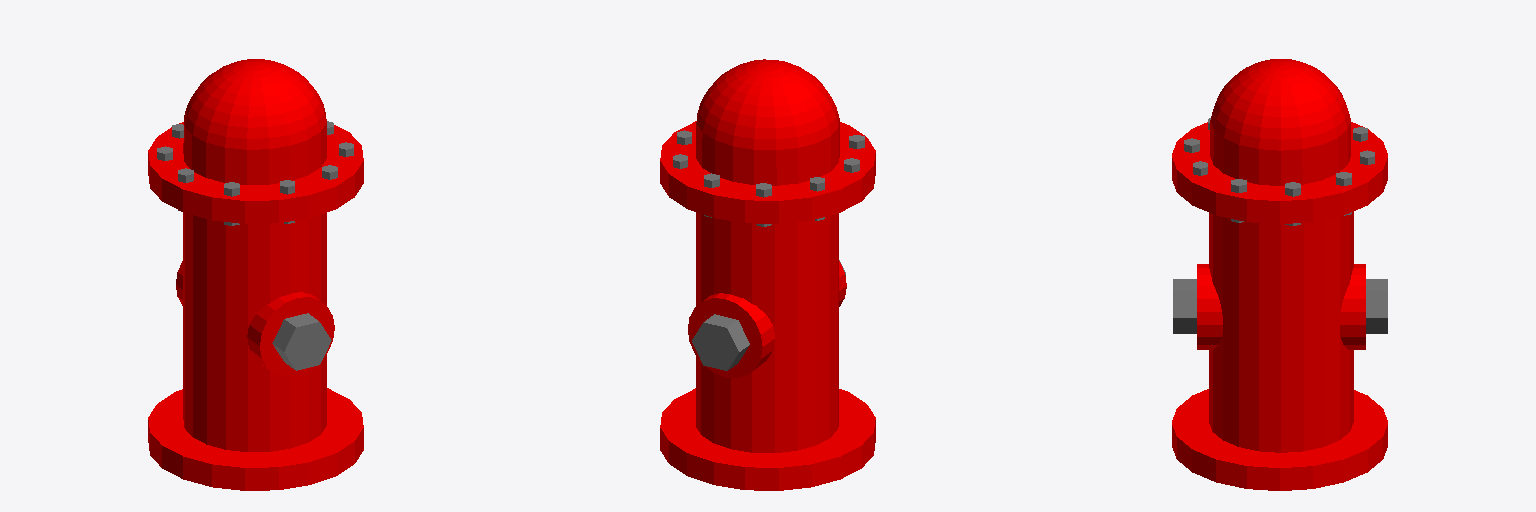
The model's file is hydrant.obj.
The picture shows the model from 3 angles: view 1: azimuth 30°, elevation 25°; view 2: azimuth 150°, elevation 25°; view 3: azimuth 270°, elevation 25°; orthographic projection.
Visible parts, largest first — view 1: street:pCylinder10 group, group street:pSphere3, group street:pPipe2, group street:pPipe1, group street:pPipe3, group street:pCylinder21; view 2: street:pCylinder10 group, group street:pSphere3, group street:pPipe2, group street:pPipe1, group street:pPipe4, group street:pCylinder22; view 3: street:pCylinder10 group, group street:pSphere3, group street:pPipe2, group street:pPipe1, group street:pPipe4, group street:pPipe3, group street:pCylinder21, group street:pCylinder22.
Boxes of the visible parts, box(x1,y1,x2,y2) form: street:pCylinder10 group: box(183, 213, 326, 451); group street:pSphere3: box(183, 59, 326, 184); group street:pPipe2: box(148, 388, 363, 490); group street:pPipe1: box(148, 122, 363, 223); group street:pPipe3: box(247, 292, 334, 376); group street:pCylinder21: box(272, 313, 331, 370); street:pCylinder10 group: box(696, 212, 838, 452); group street:pSphere3: box(696, 59, 839, 185); group street:pPipe2: box(660, 388, 875, 490); group street:pPipe1: box(660, 121, 875, 223); group street:pPipe4: box(688, 293, 774, 377); group street:pCylinder22: box(692, 314, 749, 370); street:pCylinder10 group: box(1209, 211, 1353, 452); group street:pSphere3: box(1210, 59, 1350, 185); group street:pPipe2: box(1172, 389, 1387, 490); group street:pPipe1: box(1172, 122, 1387, 223); group street:pPipe4: box(1340, 264, 1365, 349); group street:pPipe3: box(1197, 264, 1222, 349); group street:pCylinder21: box(1173, 279, 1196, 333); group street:pCylinder22: box(1366, 279, 1387, 333).
Size of the model in its own units: 6 by 11.62 by 6.